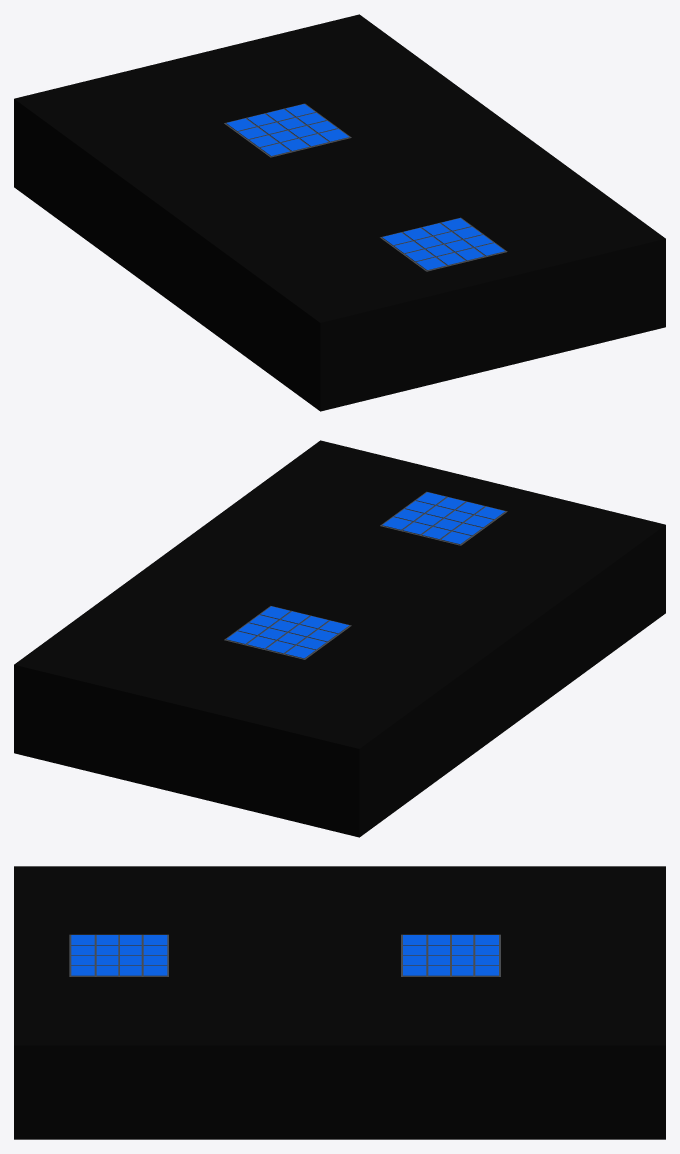
The model's file is Building 1.fbx.
The picture shows the model from 3 angles, top to bottom: view 1: azimuth 30°, elevation 25°; view 2: azimuth 150°, elevation 25°; view 3: azimuth 270°, elevation 25°; orthographic projection. The views are drawn at different scales.
Parts seen in each view (by area): view 1: Layer, Window_2, Window_1; view 2: Layer, Window_1, Window_2; view 3: Layer, Window_1, Window_2.
Boxes of the visible parts, left/top/right/bottom form: Layer: left=14, top=14, right=665, bottom=411; Window_2: left=224, top=103, right=351, bottom=157; Window_1: left=380, top=217, right=507, bottom=271; Layer: left=14, top=440, right=665, bottom=837; Window_1: left=380, top=491, right=507, bottom=545; Window_2: left=224, top=606, right=351, bottom=659; Layer: left=14, top=866, right=665, bottom=1139; Window_1: left=69, top=934, right=168, bottom=976; Window_2: left=401, top=934, right=500, bottom=976.
Size of the model in its own units: 2047 by 504 by 3145.
